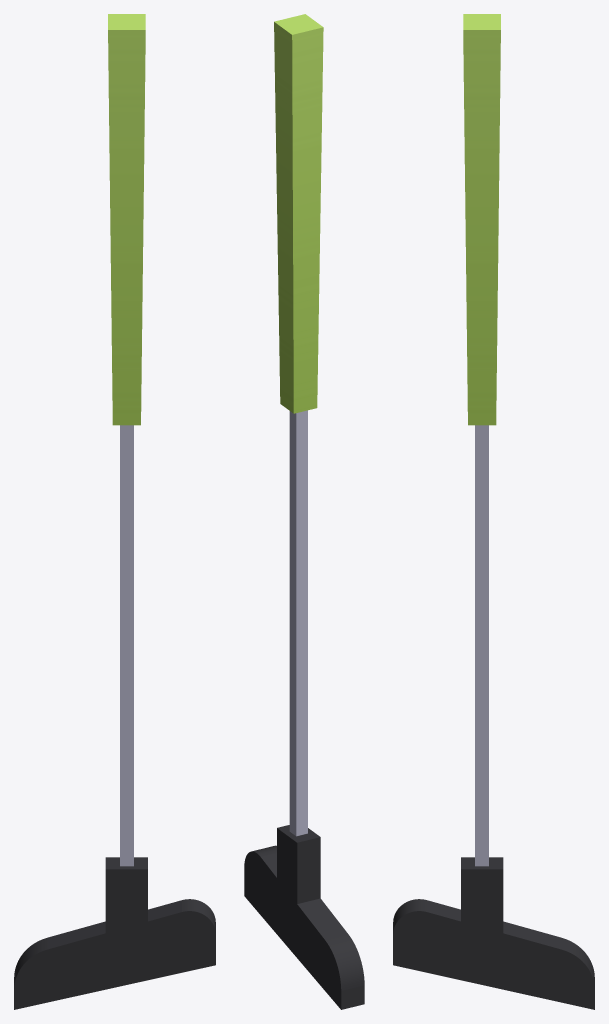
The model's file is club-green.fbx.
The picture shows the model from 3 angles, left to right: view 1: azimuth 90°, elevation 25°; view 2: azimuth 210°, elevation 25°; view 3: azimuth 270°, elevation 25°; orthographic projection. The views are drawn at different scales.
Visible parts, largest first — view 1: club_green; view 2: club_green; view 3: club_green.
Part boxes in pixels (x1,y1,x2,y2): club_green: [14, 14, 215, 1009]; club_green: [244, 14, 364, 1009]; club_green: [393, 14, 594, 1009].
Size of the model in its own units: 3.45 by 98.99 by 18.44.
